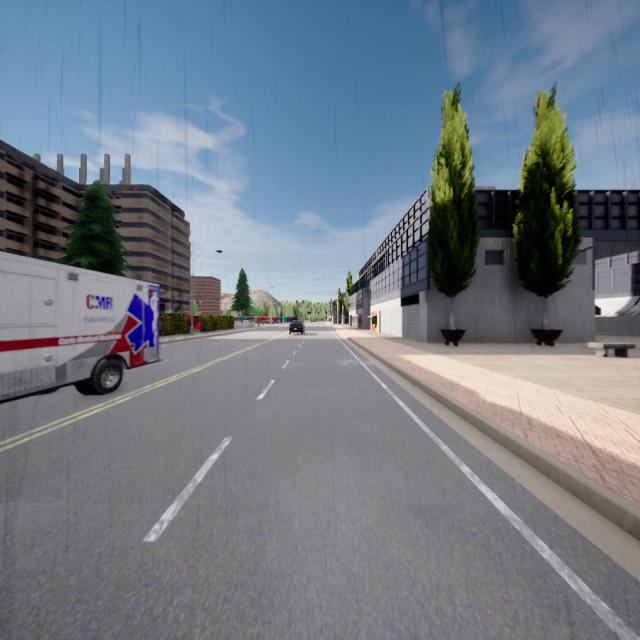Vehicle: (0, 252, 159, 401), (289, 319, 305, 335)
